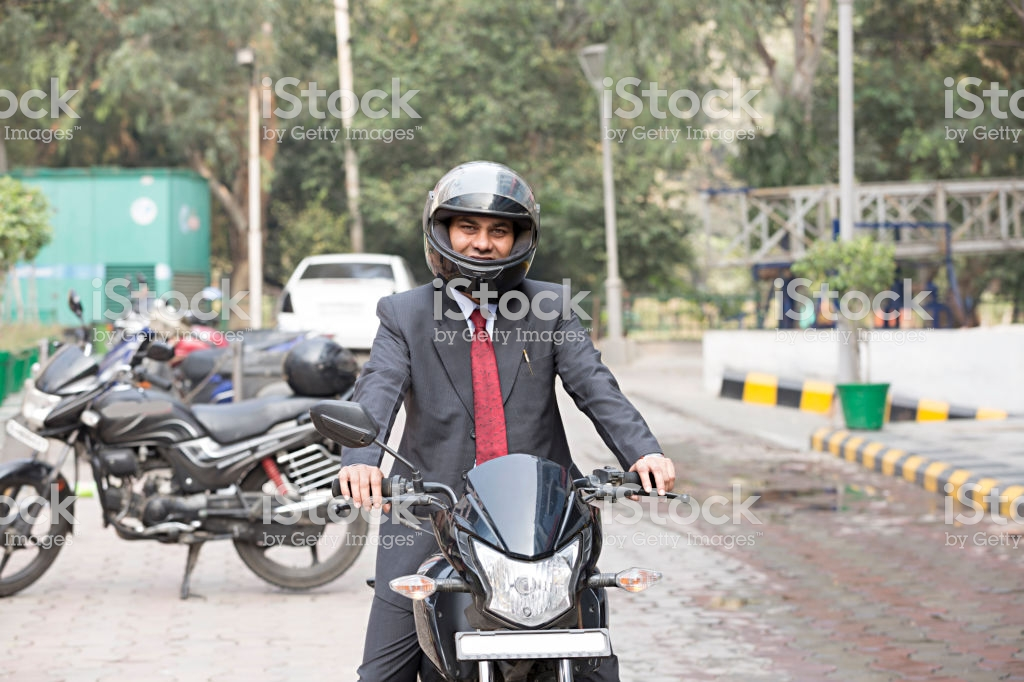helmet: (422, 165, 543, 282)
